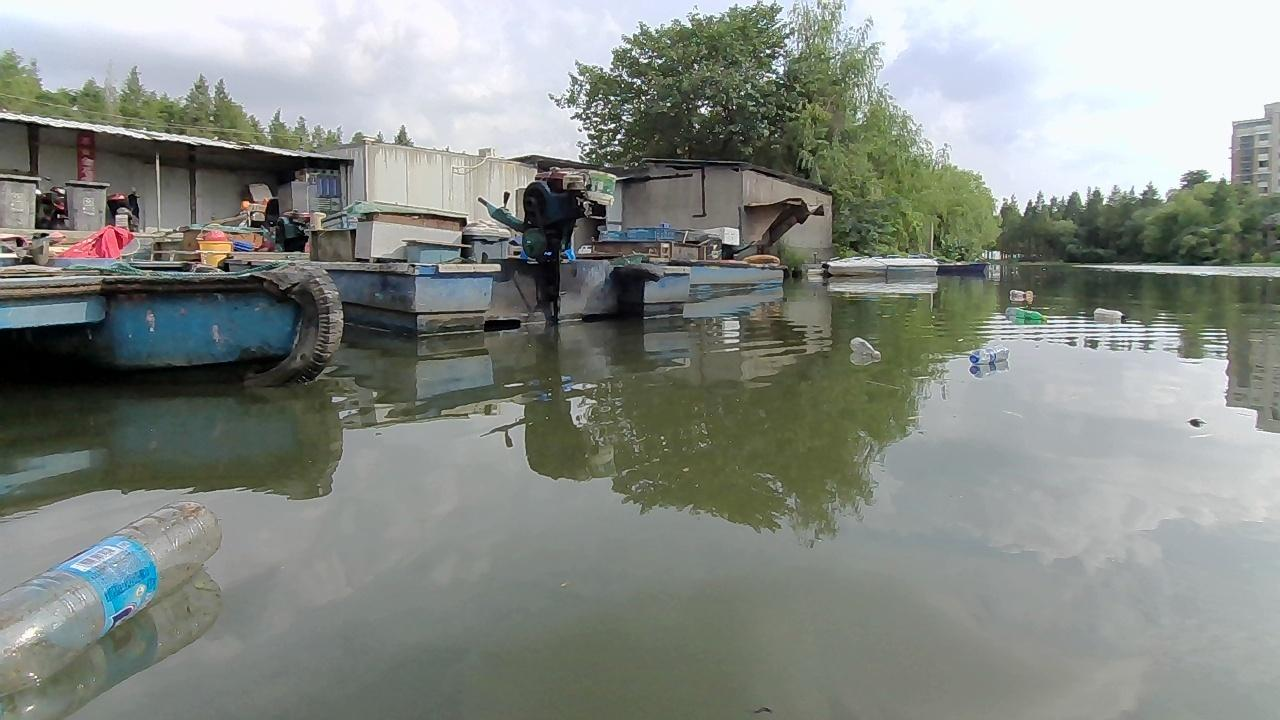bottle: (6, 490, 228, 700), (961, 342, 1010, 365), (844, 332, 879, 362), (1005, 305, 1048, 327), (1091, 305, 1124, 326), (1007, 285, 1032, 307)
